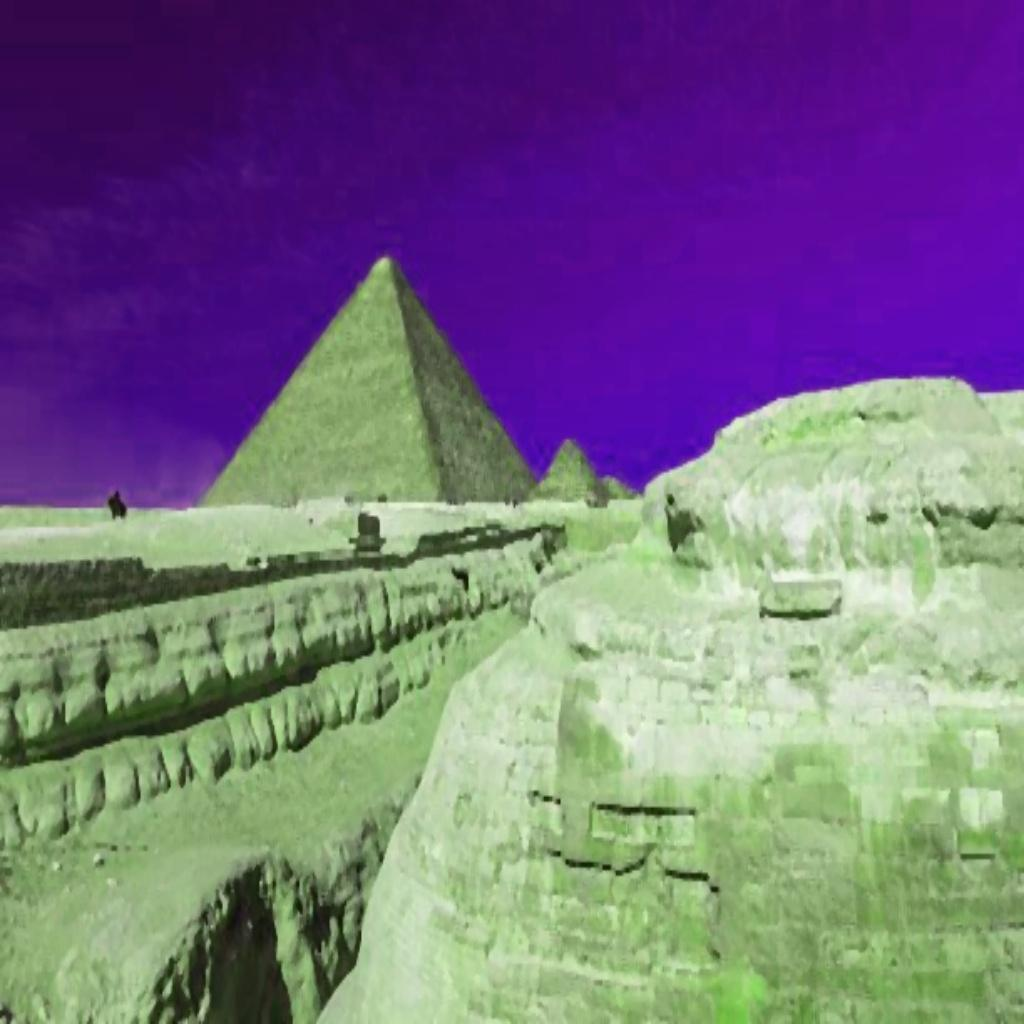Great Pyramids of Giza: (196, 250, 540, 505)
